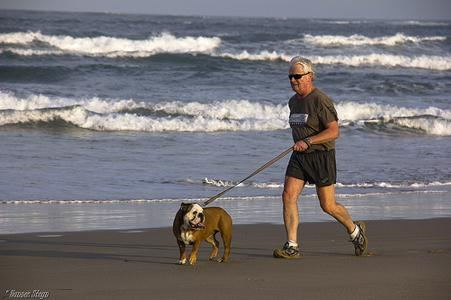person: (272, 58, 365, 257)
